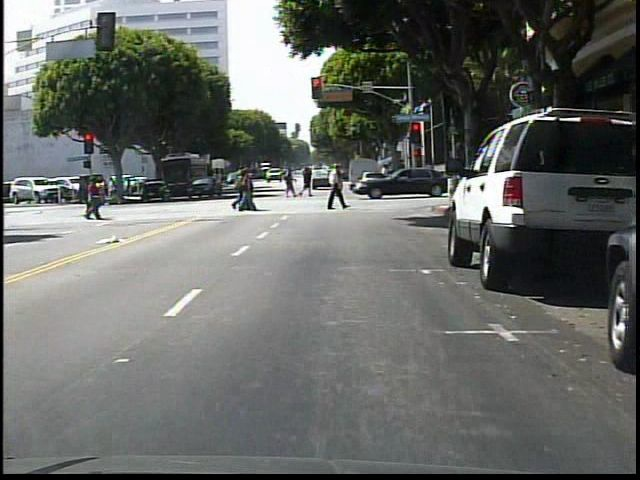person: (324, 160, 349, 214)
